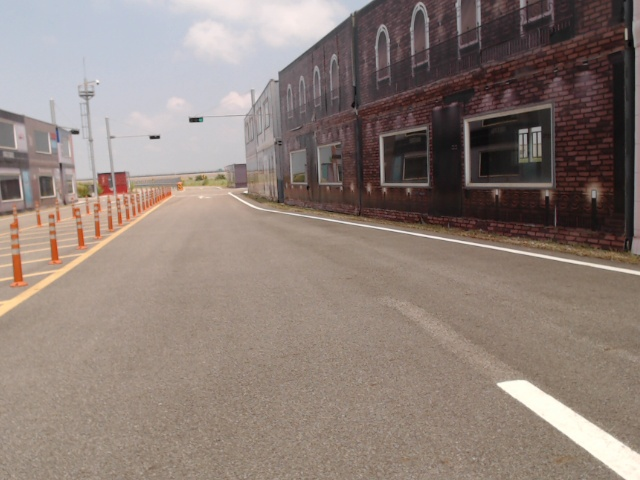green_3: (189, 116, 204, 123)
